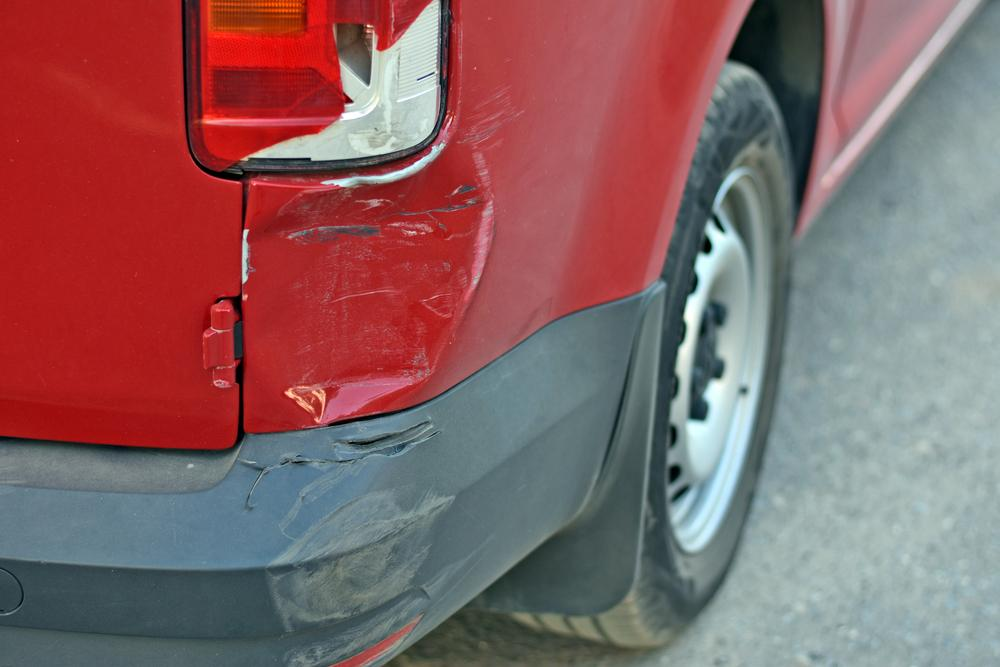crack: (243, 418, 444, 510)
dent: (246, 131, 492, 415)
lamp broken: (186, 0, 446, 178)
scratch: (244, 452, 494, 667)
